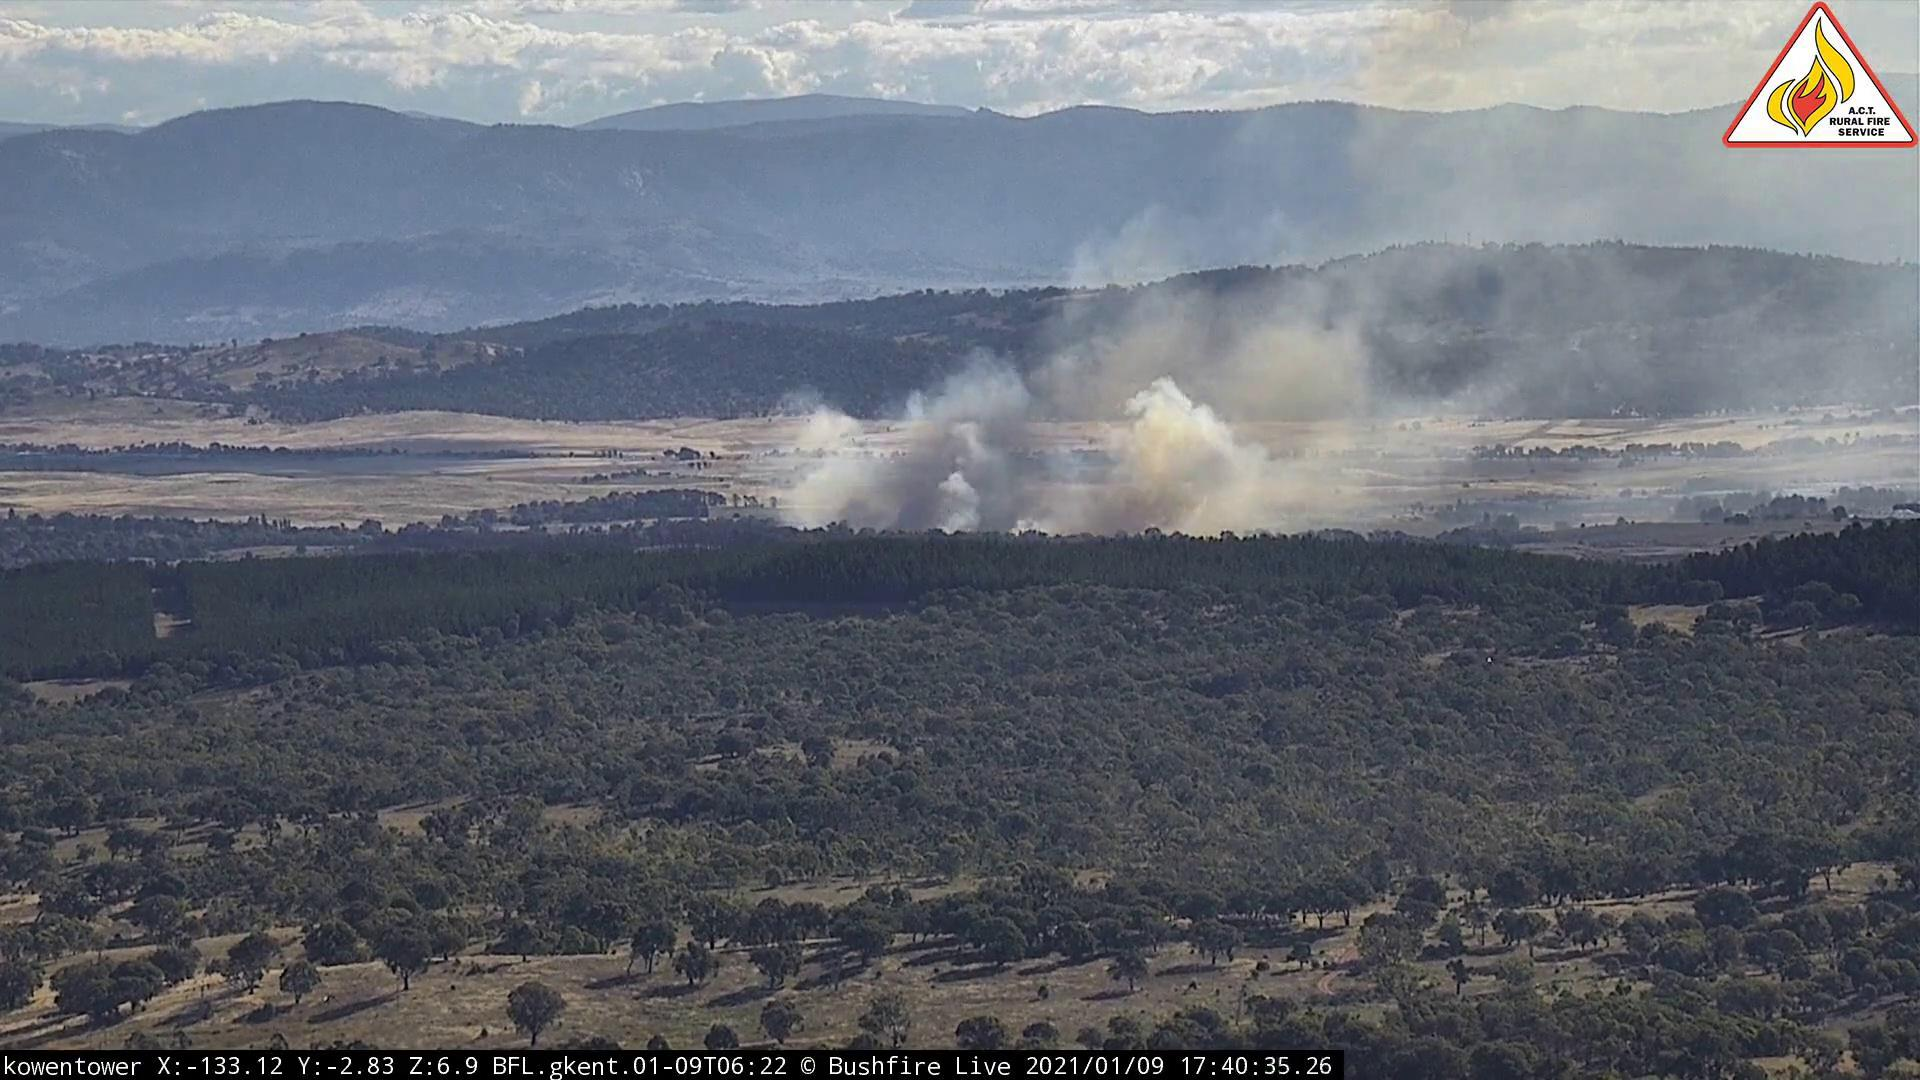Smoke: (732, 108, 1706, 537)
